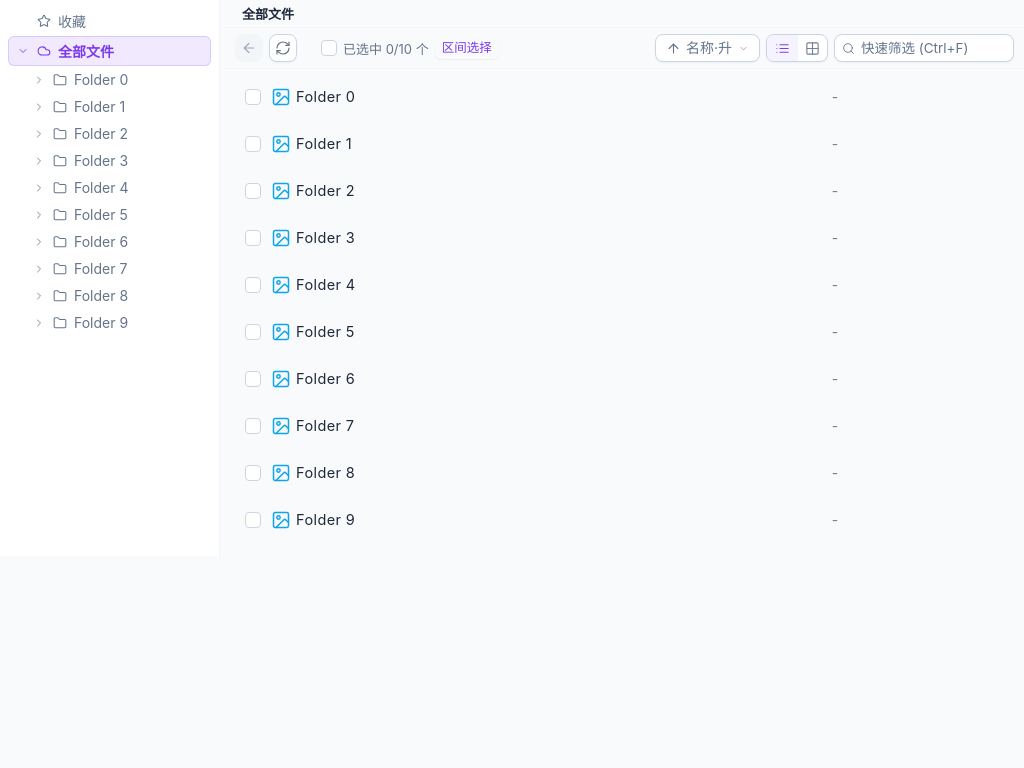
it: 关键交互组件 › 下一级目录预缓存限制数量和并发，展开树使用缓存且不递归扫描
The image size is (1024, 768).
Click the 2nd element with class "tn-arrow" at (39, 80), box [32,72,46,86]
Wait 1000 ms
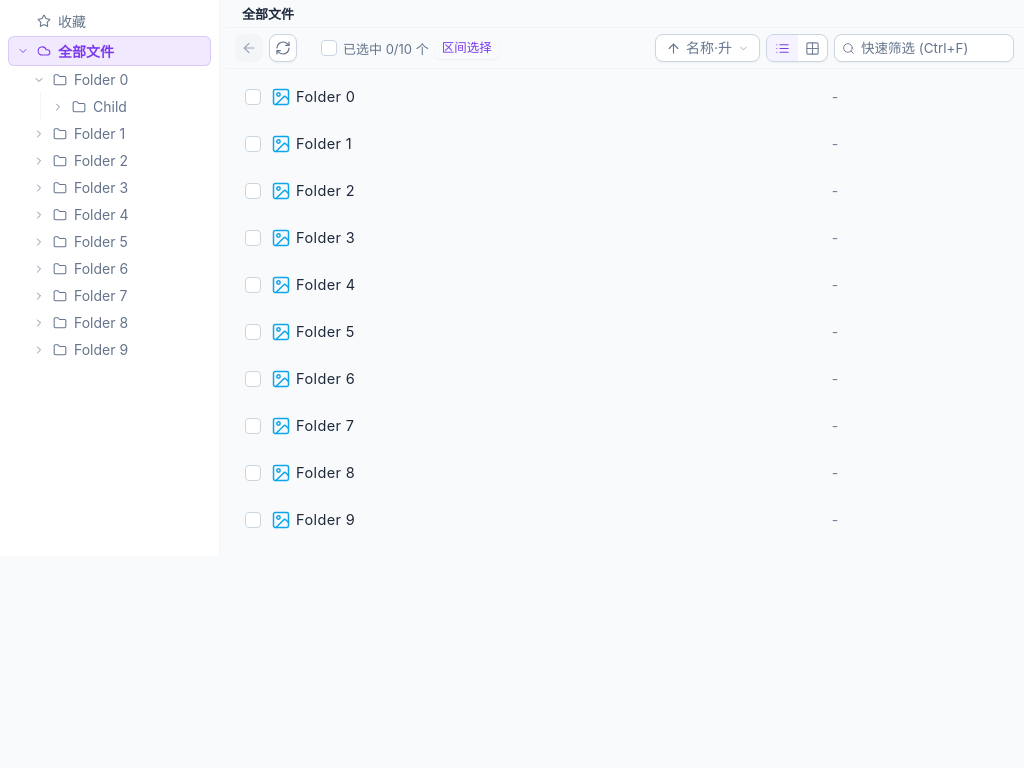
Expected: the text with class "tree-node" reads "Child", [93,98,127,115]
